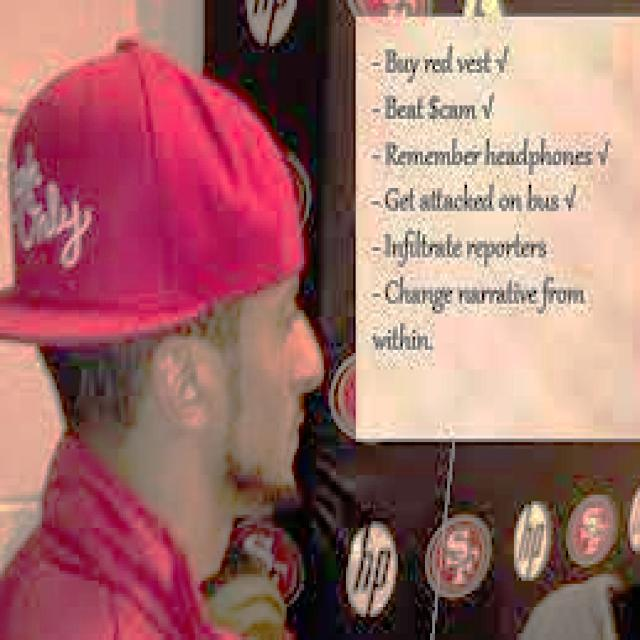TOPI: (0, 29, 309, 350)
